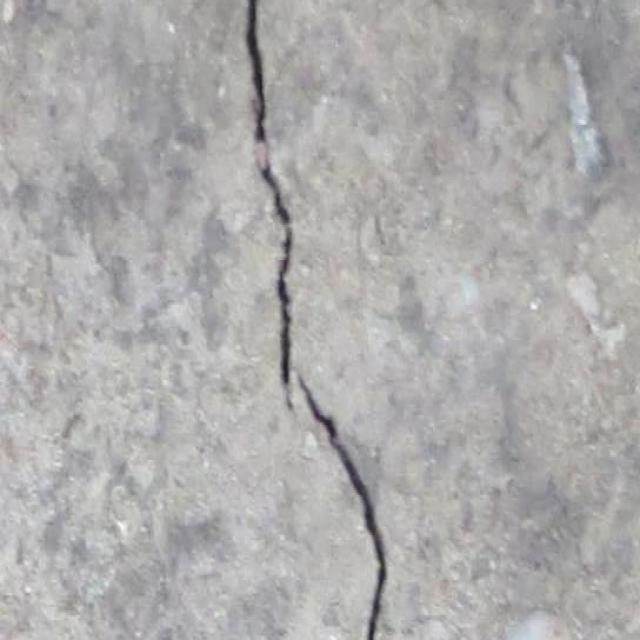Crack: (240, 0, 389, 639), (241, 5, 296, 407), (242, 1, 274, 159)
